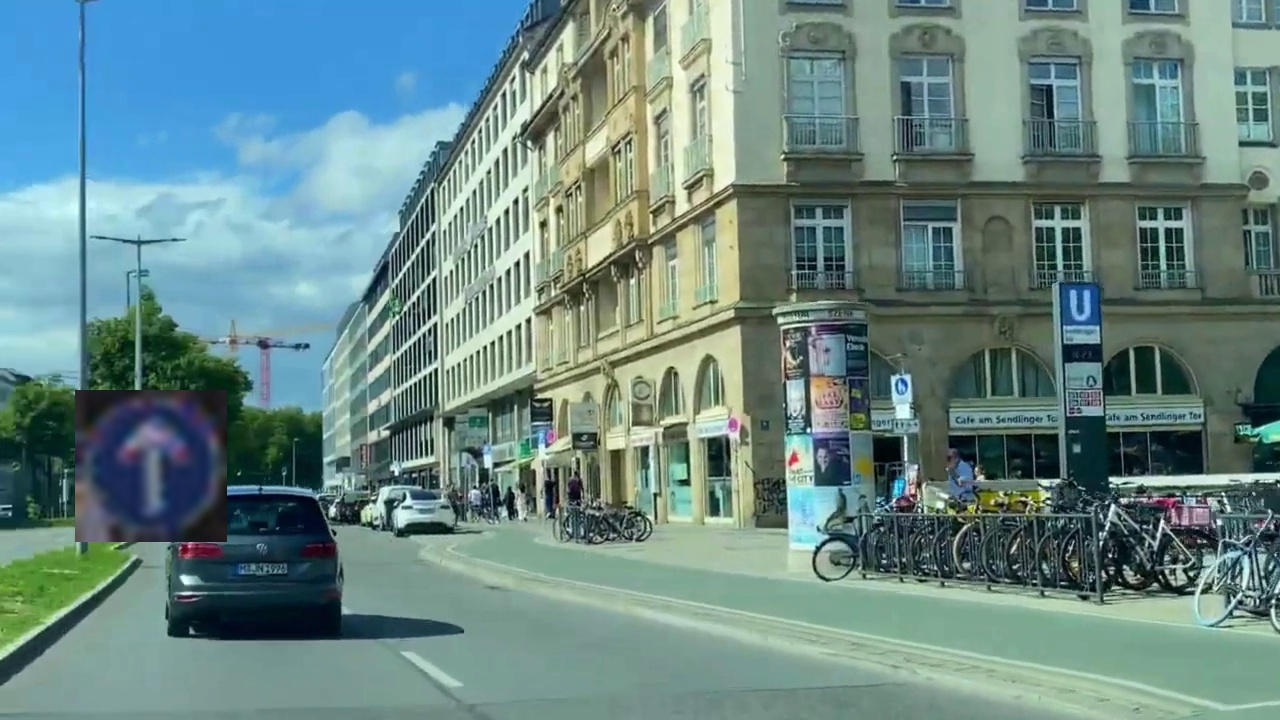Ahead only: (75, 390, 227, 542)
